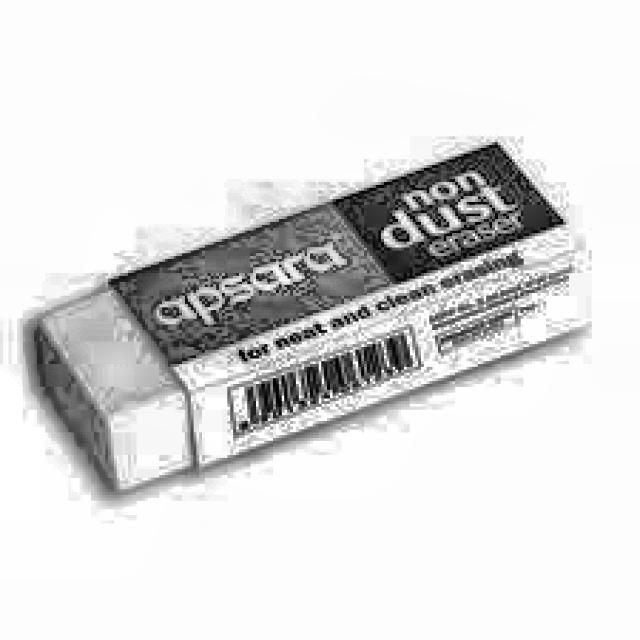eraser: (22, 128, 592, 498)
